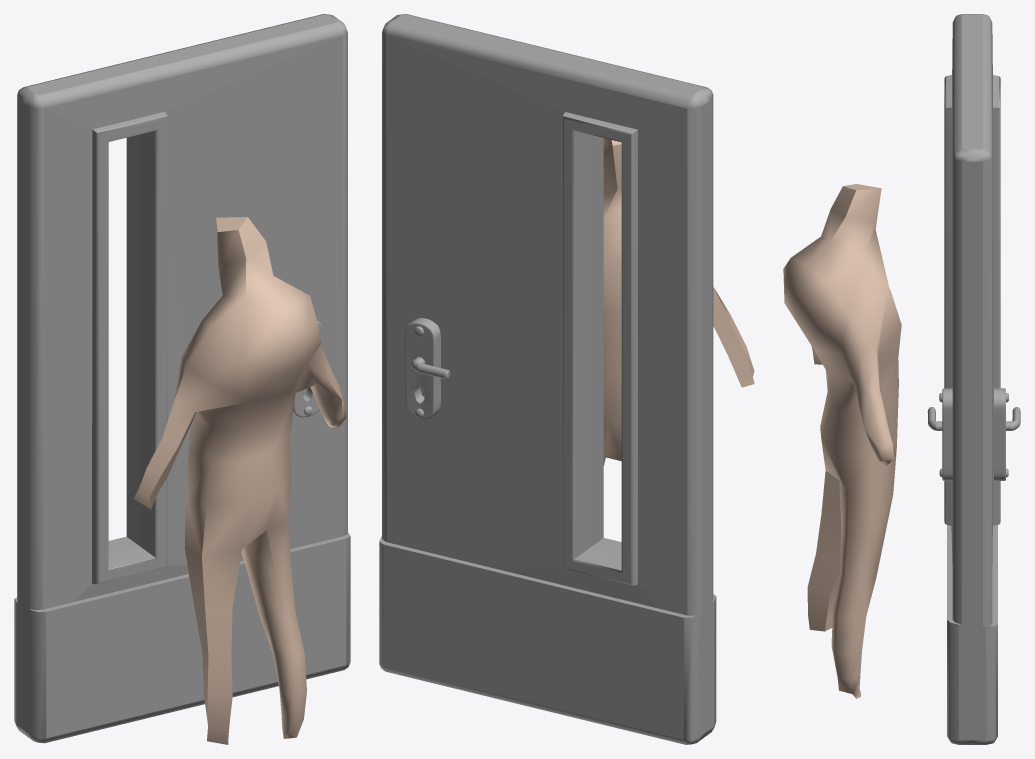
Rendered from Office door V2.fbx.
3 renders of one model, left to right at view 1: azimuth 30°, elevation 25°; view 2: azimuth 150°, elevation 25°; view 3: azimuth 270°, elevation 25°, orthographic. The views are drawn at different scales.
Visible parts, largest first — view 1: polySurface7, humanBody2, polySurface8; view 2: polySurface7, humanBody2, polySurface8; view 3: polySurface7, humanBody2, polySurface8.
Boxes of the visible parts, x1=… form: polySurface7: x1=14, y1=14, x2=350, y2=743; humanBody2: x1=133, y1=217, x2=346, y2=744; polySurface8: x1=293, y1=320, x2=322, y2=417; polySurface7: x1=379, y1=14, x2=716, y2=744; humanBody2: x1=603, y1=138, x2=754, y2=465; polySurface8: x1=405, y1=318, x2=450, y2=419; polySurface7: x1=944, y1=14, x2=1000, y2=744; humanBody2: x1=783, y1=184, x2=901, y2=698; polySurface8: x1=927, y1=388, x2=1020, y2=480.
Size of the model in its own units: 1.04 by 2.03 by 0.7328.
